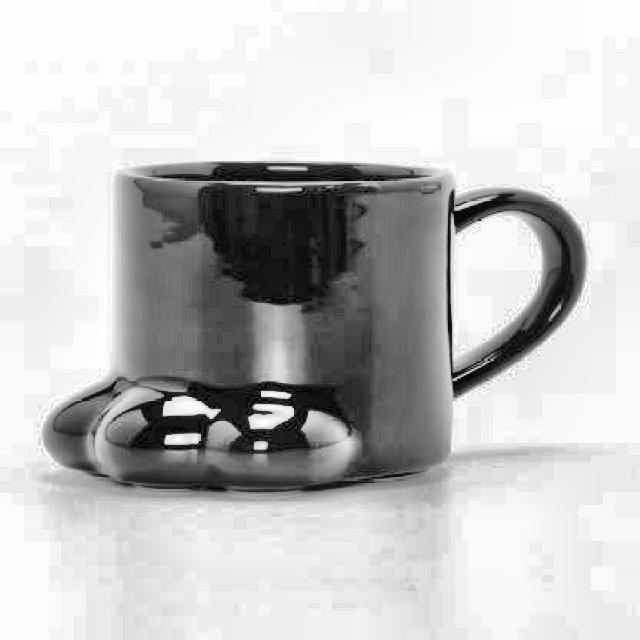Mug: (38, 156, 590, 499)
